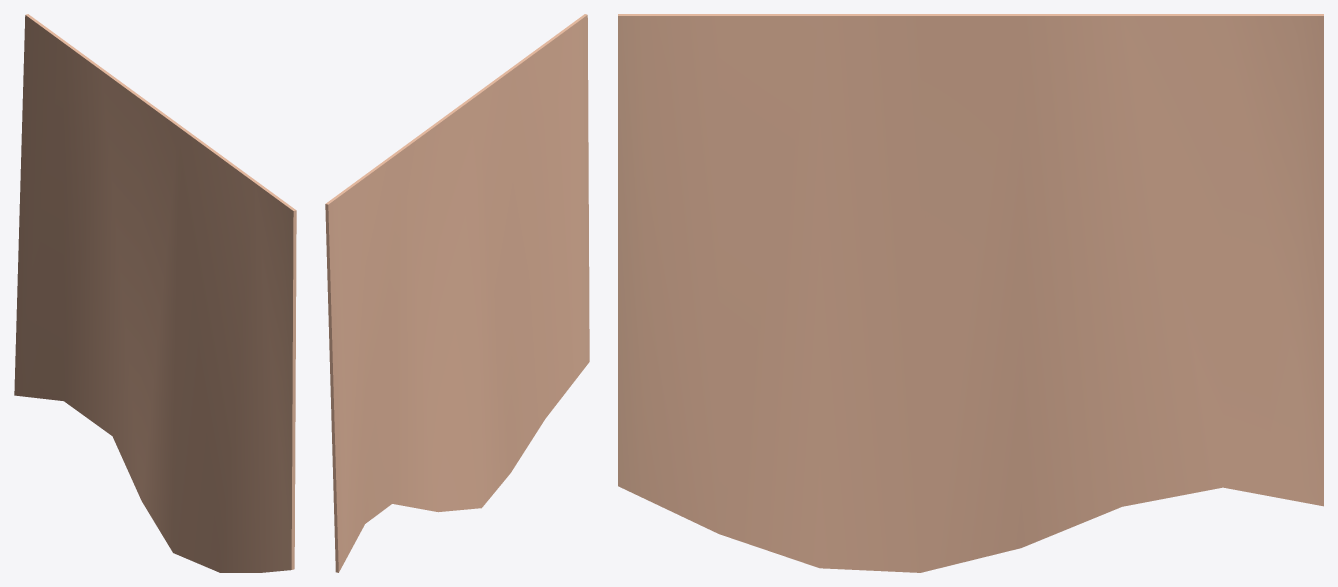
File: Cortun_long2.fbx
3 views of the same model, side by side, from view 1: azimuth 30°, elevation 25°; view 2: azimuth 150°, elevation 25°; view 3: azimuth 270°, elevation 25° (orthographic). The views are drawn at different scales.
Parts seen in each view (by area): view 1: Cortun_long2; view 2: Cortun_long2; view 3: Cortun_long2.
Part boxes in pixels (left/top/right/bottom): Cortun_long2: left=14, top=14, right=296, bottom=572; Cortun_long2: left=325, top=14, right=589, bottom=572; Cortun_long2: left=618, top=14, right=1323, bottom=572.
Size of the model in its own units: 0.00164 by 0.0271 by 0.0311.
Materials: 1 (1 with a texture image).
